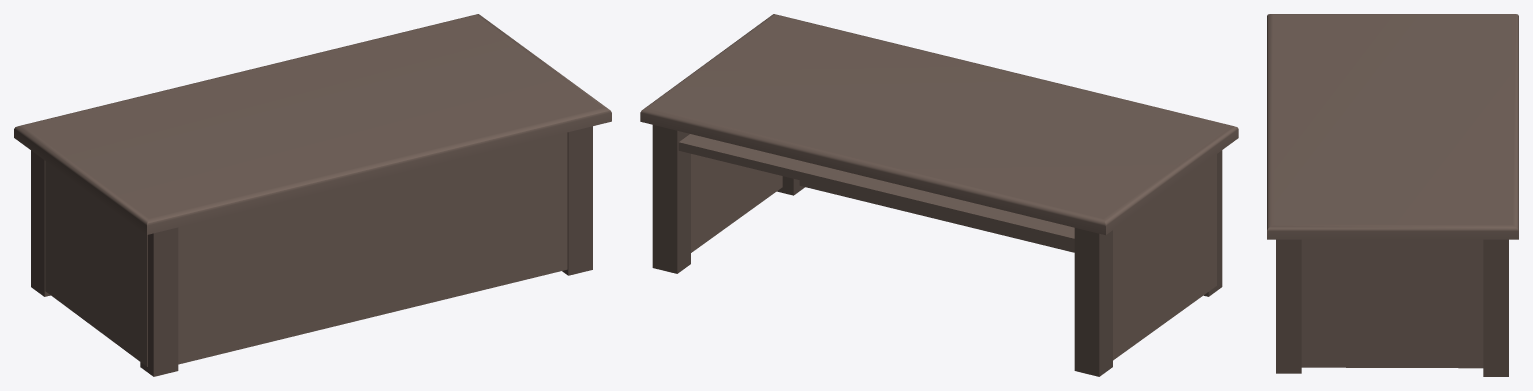
Rendered from teacher_desk2.fbx.
The picture shows the model from 3 angles, left to right: view 1: azimuth 30°, elevation 25°; view 2: azimuth 150°, elevation 25°; view 3: azimuth 270°, elevation 25°; orthographic projection. The views are drawn at different scales.
Visible parts, largest first — view 1: pCube12; view 2: pCube12; view 3: pCube12.
Boxes of the visible parts, x1=… form: pCube12: x1=14, y1=14, x2=611, y2=376; pCube12: x1=640, y1=14, x2=1238, y2=376; pCube12: x1=1267, y1=14, x2=1518, y2=376.
Bounding box in the file's own units: 1.51 × 0.4991 × 0.7451.
